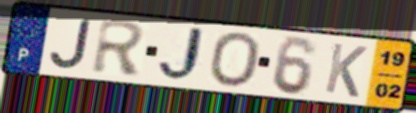6: (269, 34, 320, 97)
J: (156, 25, 212, 84), (47, 17, 94, 71)
K: (322, 41, 370, 100)
O: (207, 30, 263, 89)
R: (90, 17, 149, 78)
